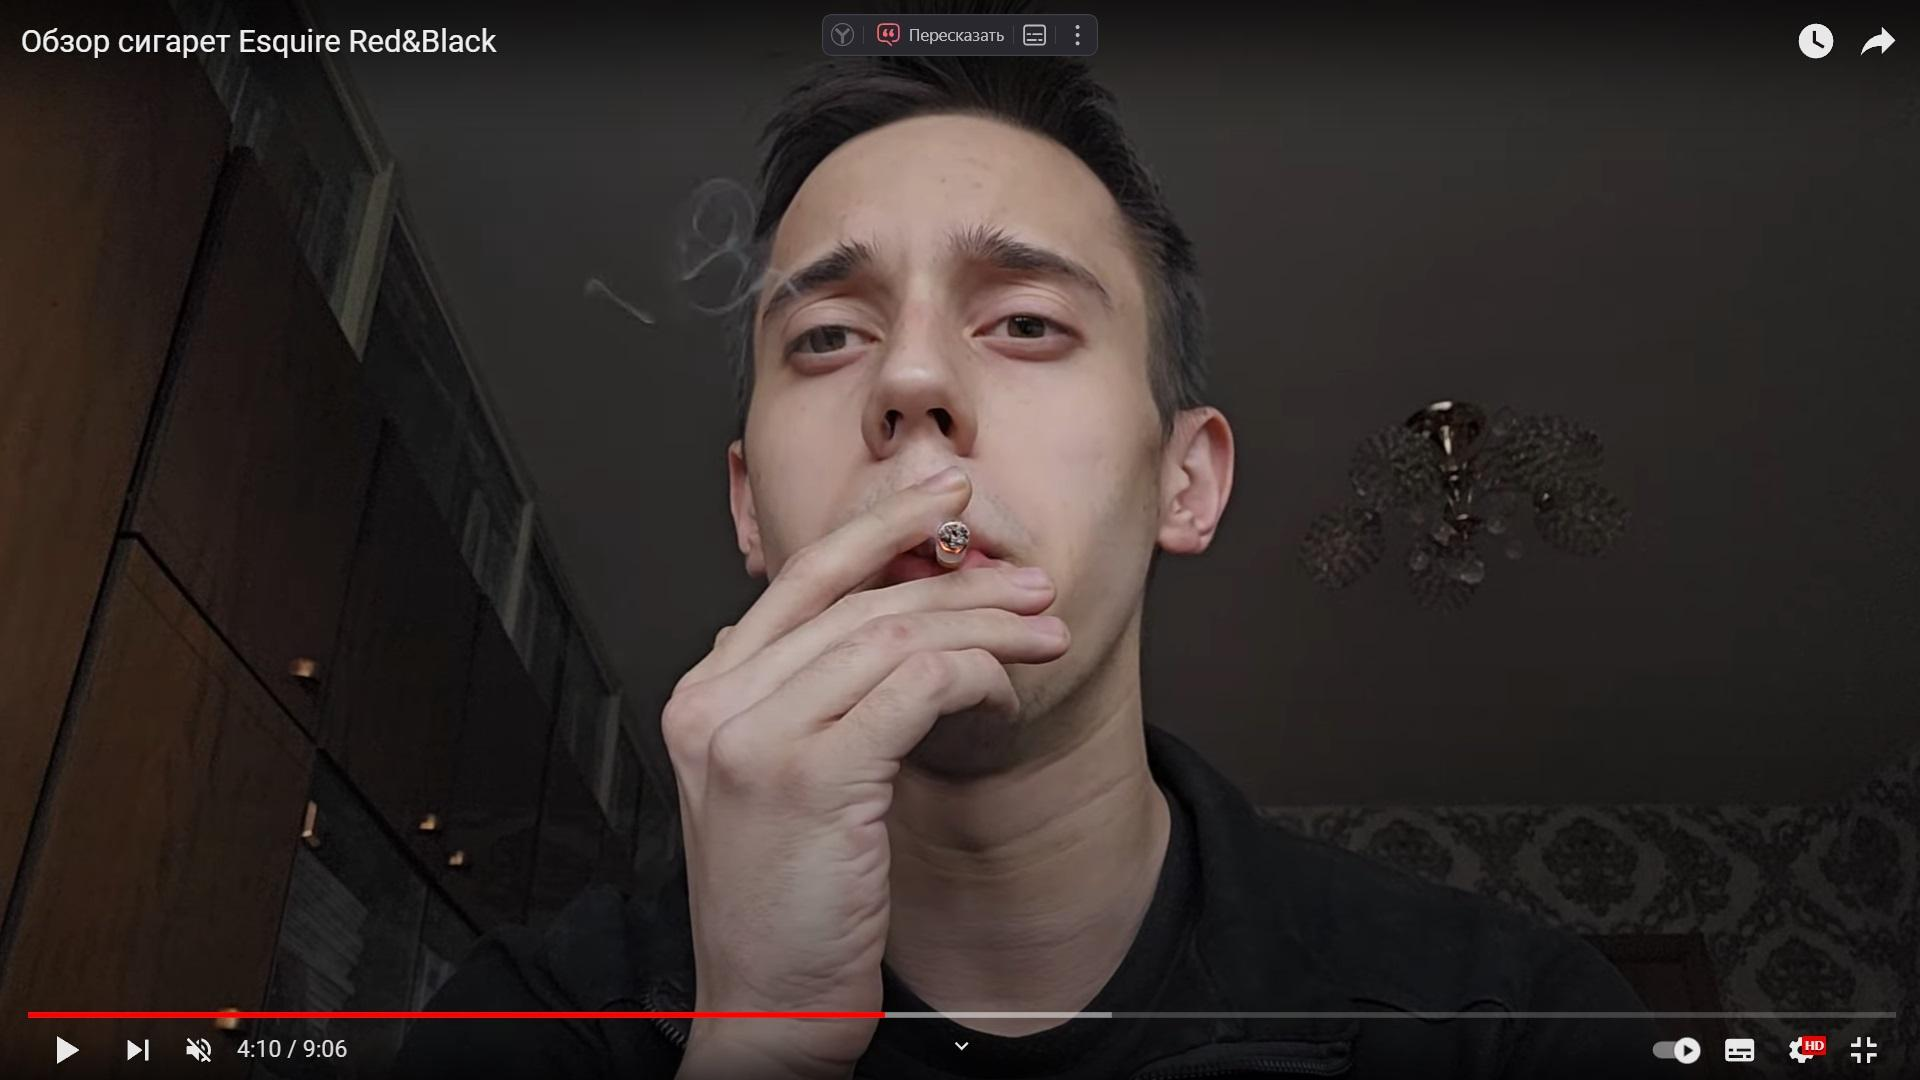cigarette: (934, 521, 972, 570)
